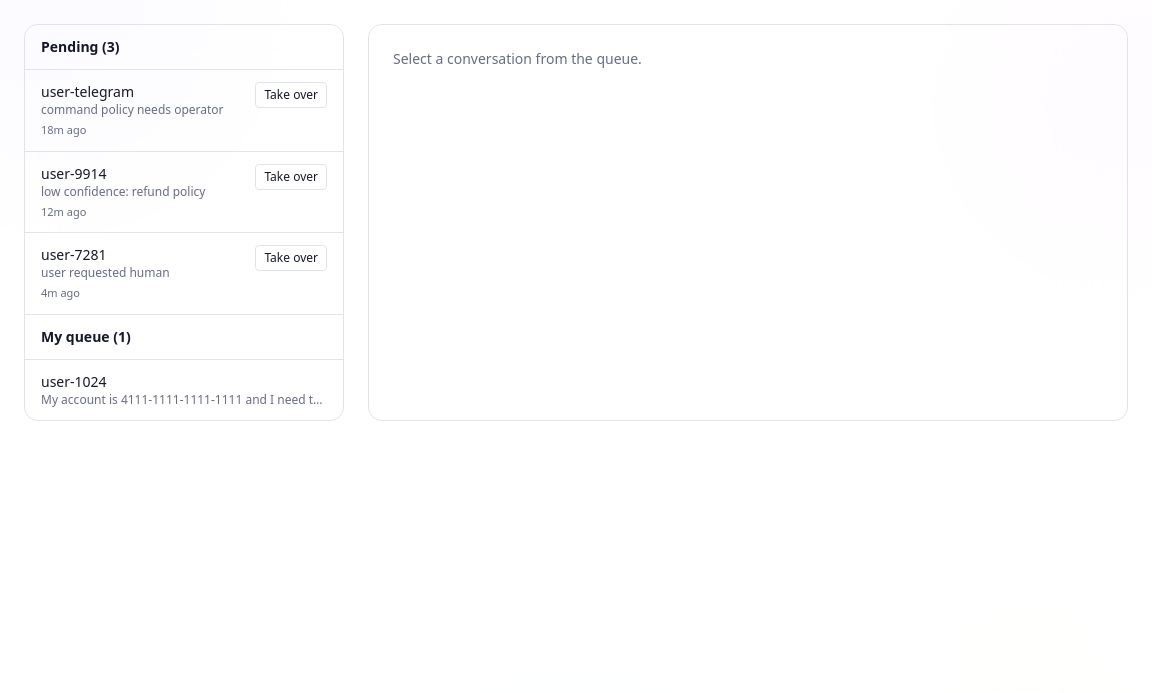
Test: InboxScreen › Send pushes a reply into the transcript
The width and height of the screenshot is (1152, 693).
Click the button with test id "claim-11111111-1111-1111-1111-111111111111". click: (291, 258)
box: [255, 245, 327, 271]
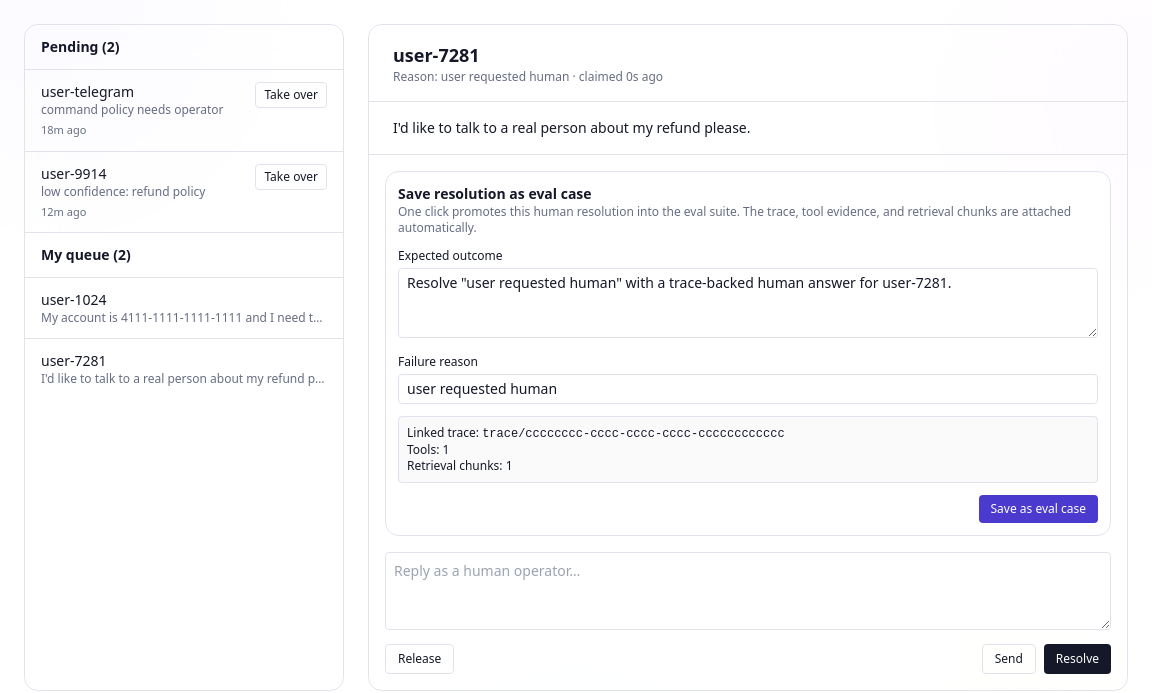
Type "Hi, this is Alice." into the text box with test id "composer-input". click: (748, 591)
box: [385, 552, 1111, 630]
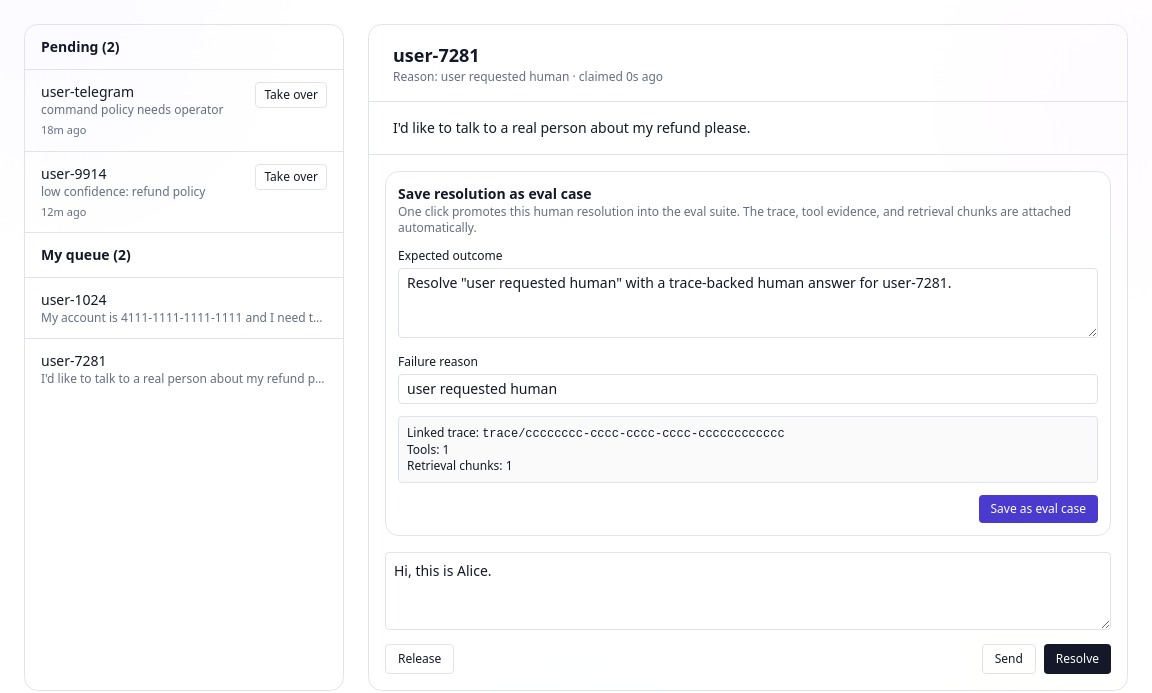
Click the button with test id "send-button". click: (1009, 659)
box: [982, 644, 1036, 674]
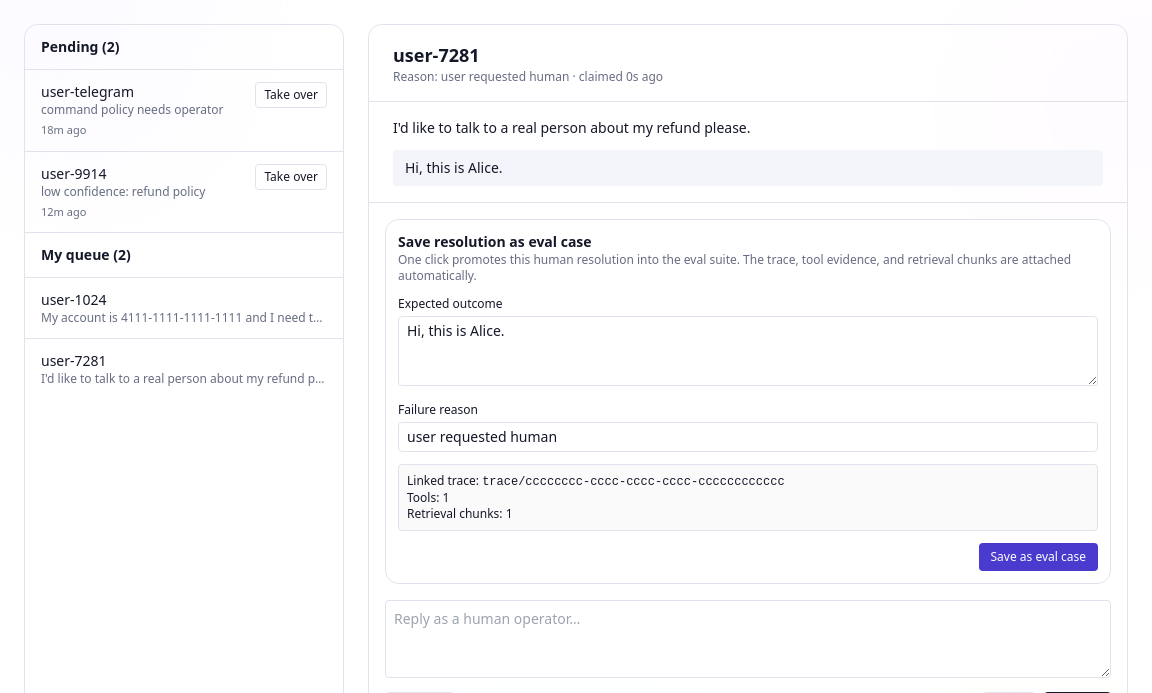
Expected: the text with test id "reply-11111111-1111-1111-1111-111111111111-0" reads "Hi, this is Alice.", [405, 158, 502, 177]
Expected: the text box with test id "composer-input" is empty, [385, 600, 1111, 678]
